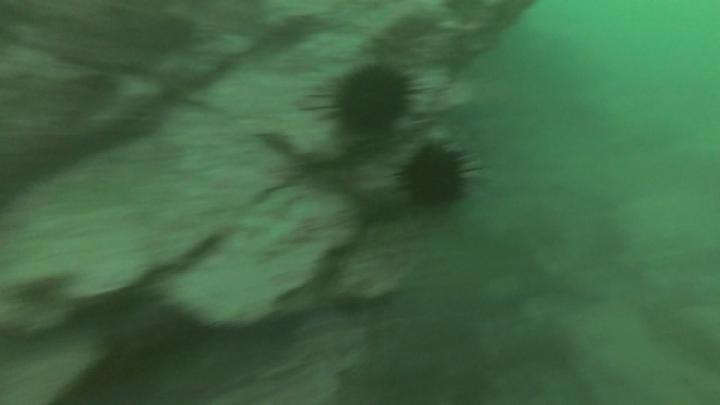starfish: (325, 61, 413, 137), (397, 140, 475, 210)
